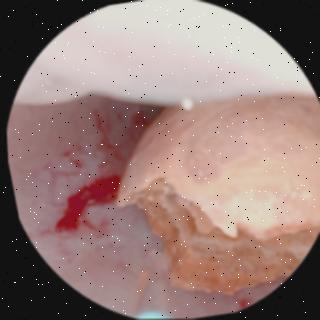fiber: (133, 312, 164, 319)
stone: (111, 94, 320, 293)
tissue: (7, 102, 275, 318)
